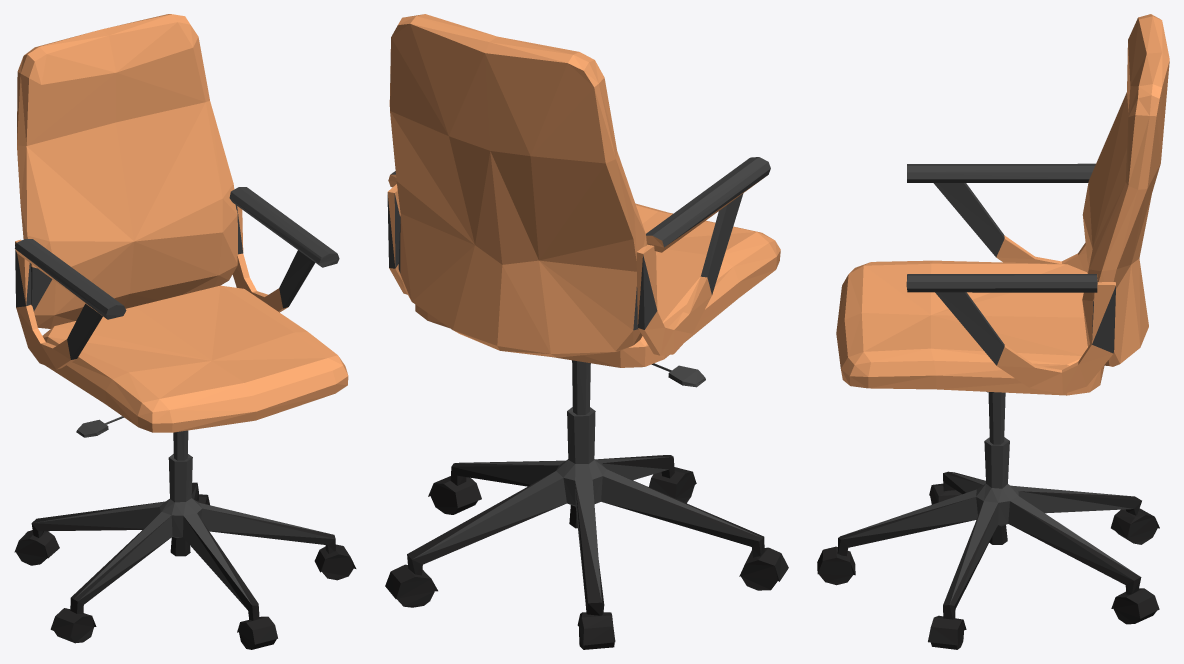
The picture shows the model from 3 angles, left to right: view 1: azimuth 30°, elevation 25°; view 2: azimuth 150°, elevation 25°; view 3: azimuth 270°, elevation 25°; orthographic projection. The views are drawn at different scales.
Parts seen in each view (by area): view 1: COM-04_Chair_meshy; view 2: COM-04_Chair_meshy; view 3: COM-04_Chair_meshy.
Part boxes in pixels (x1,y1,x2,y2): COM-04_Chair_meshy: (14,14,356,649); COM-04_Chair_meshy: (385,14,788,649); COM-04_Chair_meshy: (817,14,1169,649).
Size of the model in its own units: 0.7097 by 1.15 by 0.695.
1 material, 1 textured.
